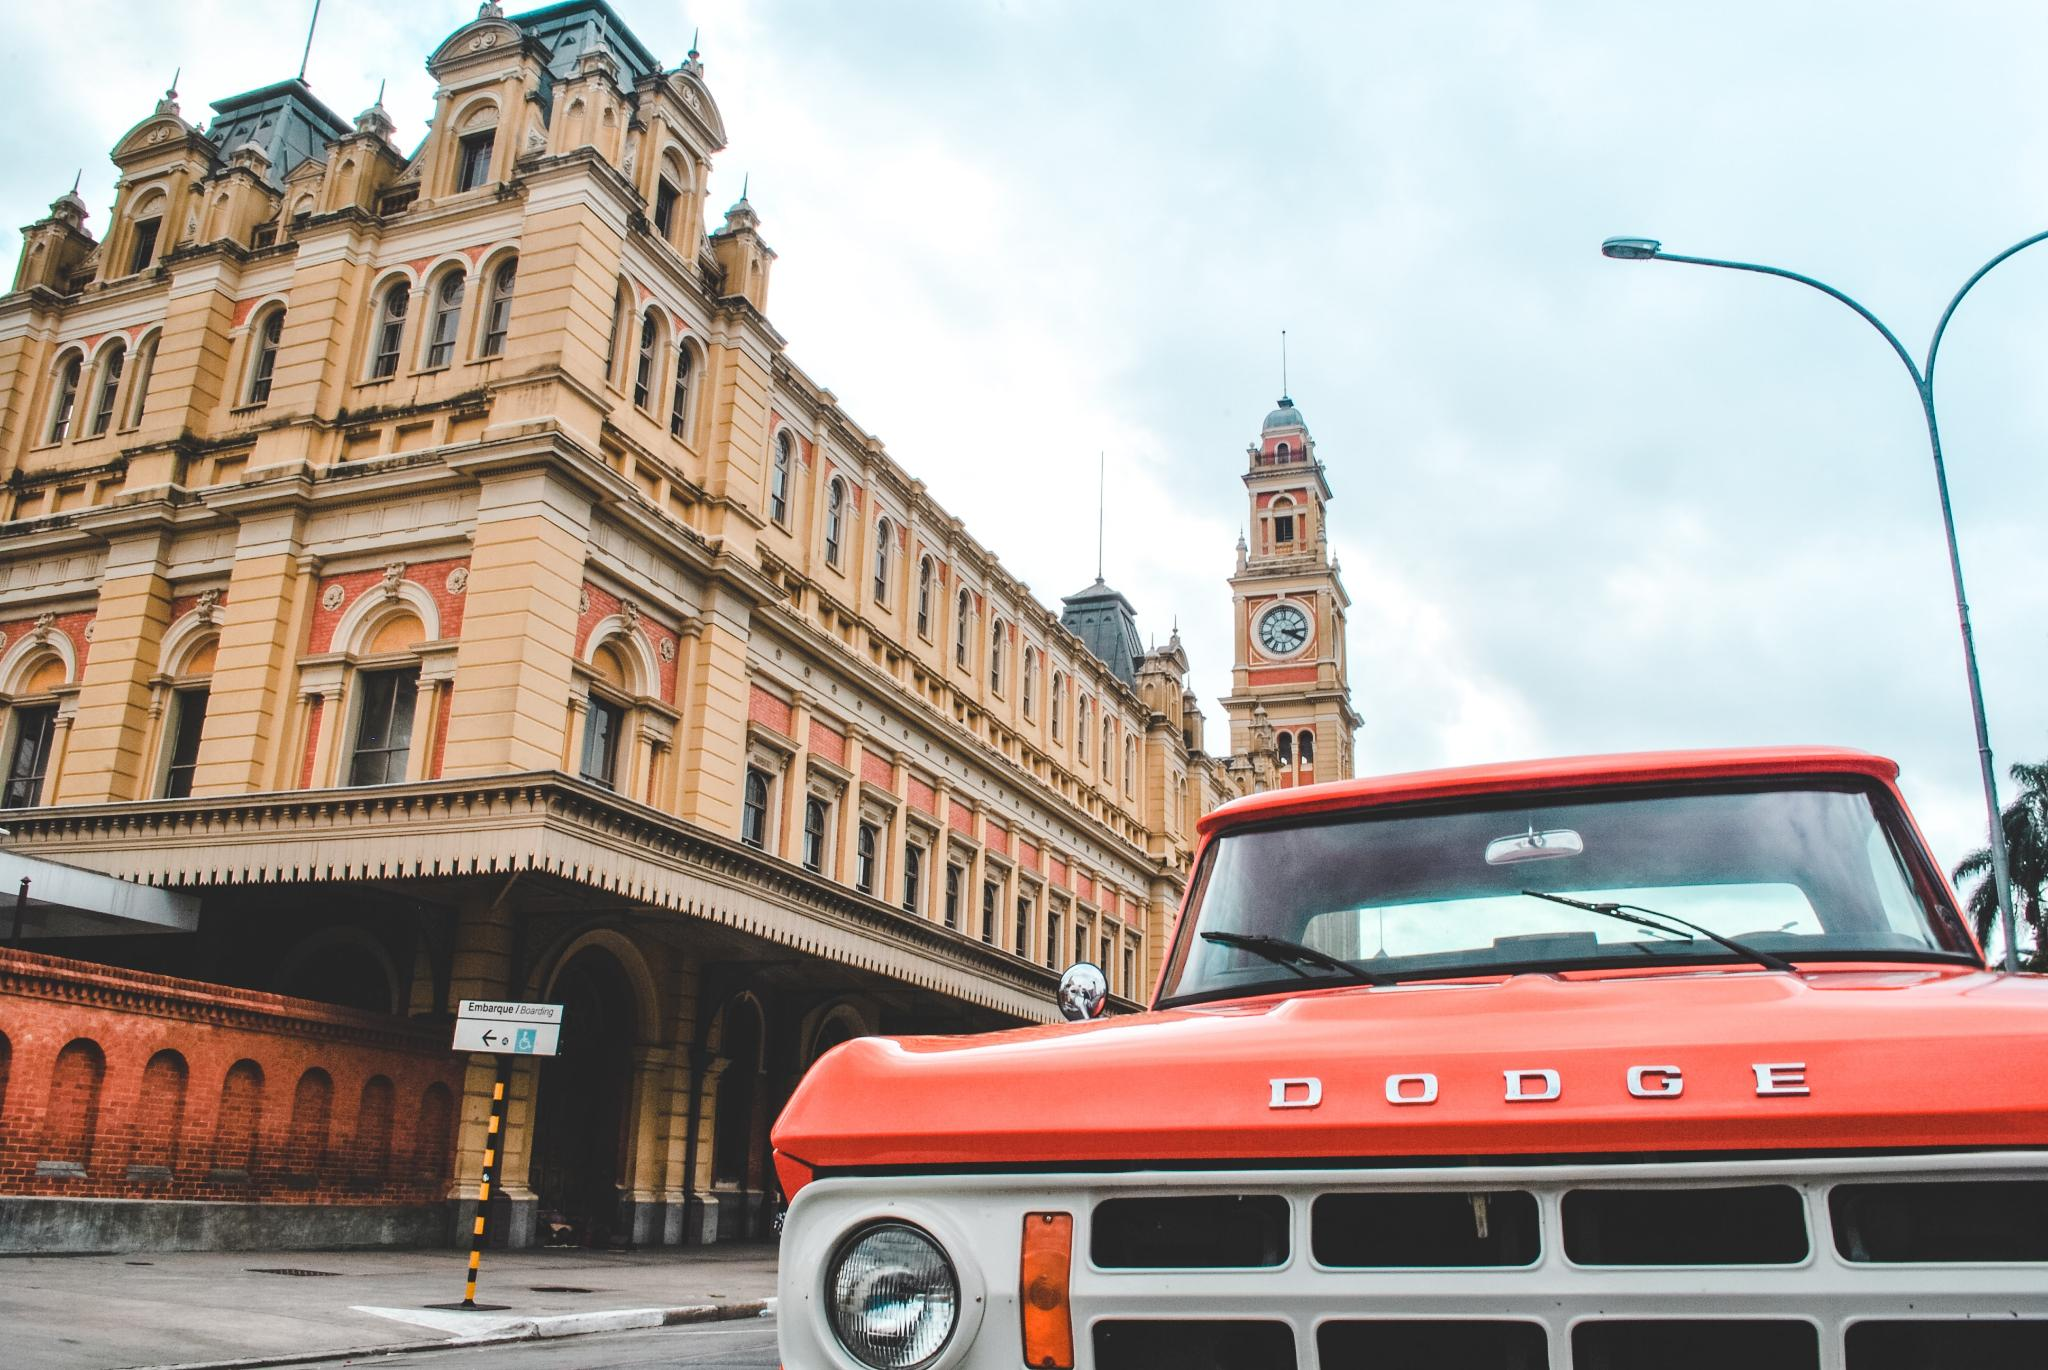dodge: (1233, 1046, 1858, 1142)
